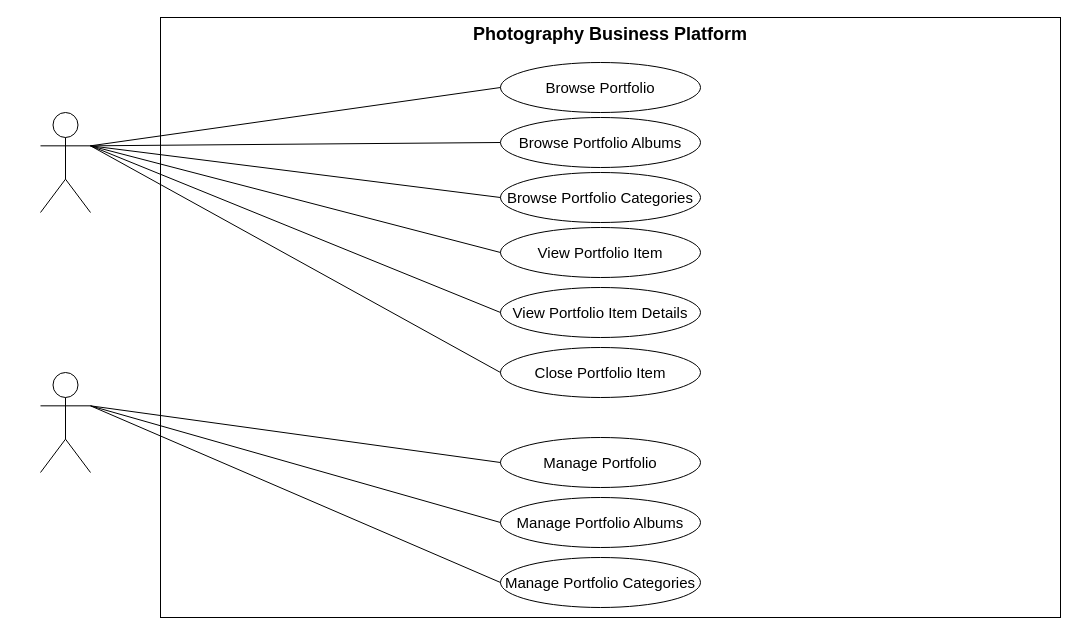
Some shapes in this 1078 by 635 pixel diagram are drawn without their labels. Each missing label, with the centre of its shape:
Guest Visitor: [65,162]
Photographer: [65,422]
